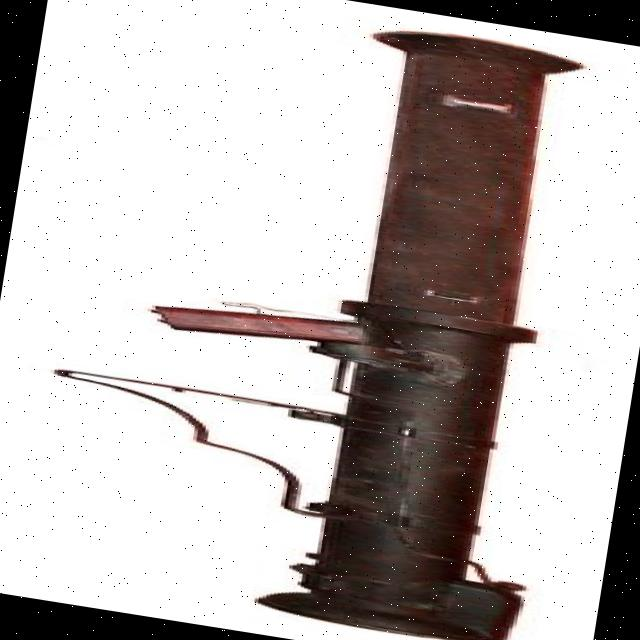Bazooka: (109, 0, 618, 640)
